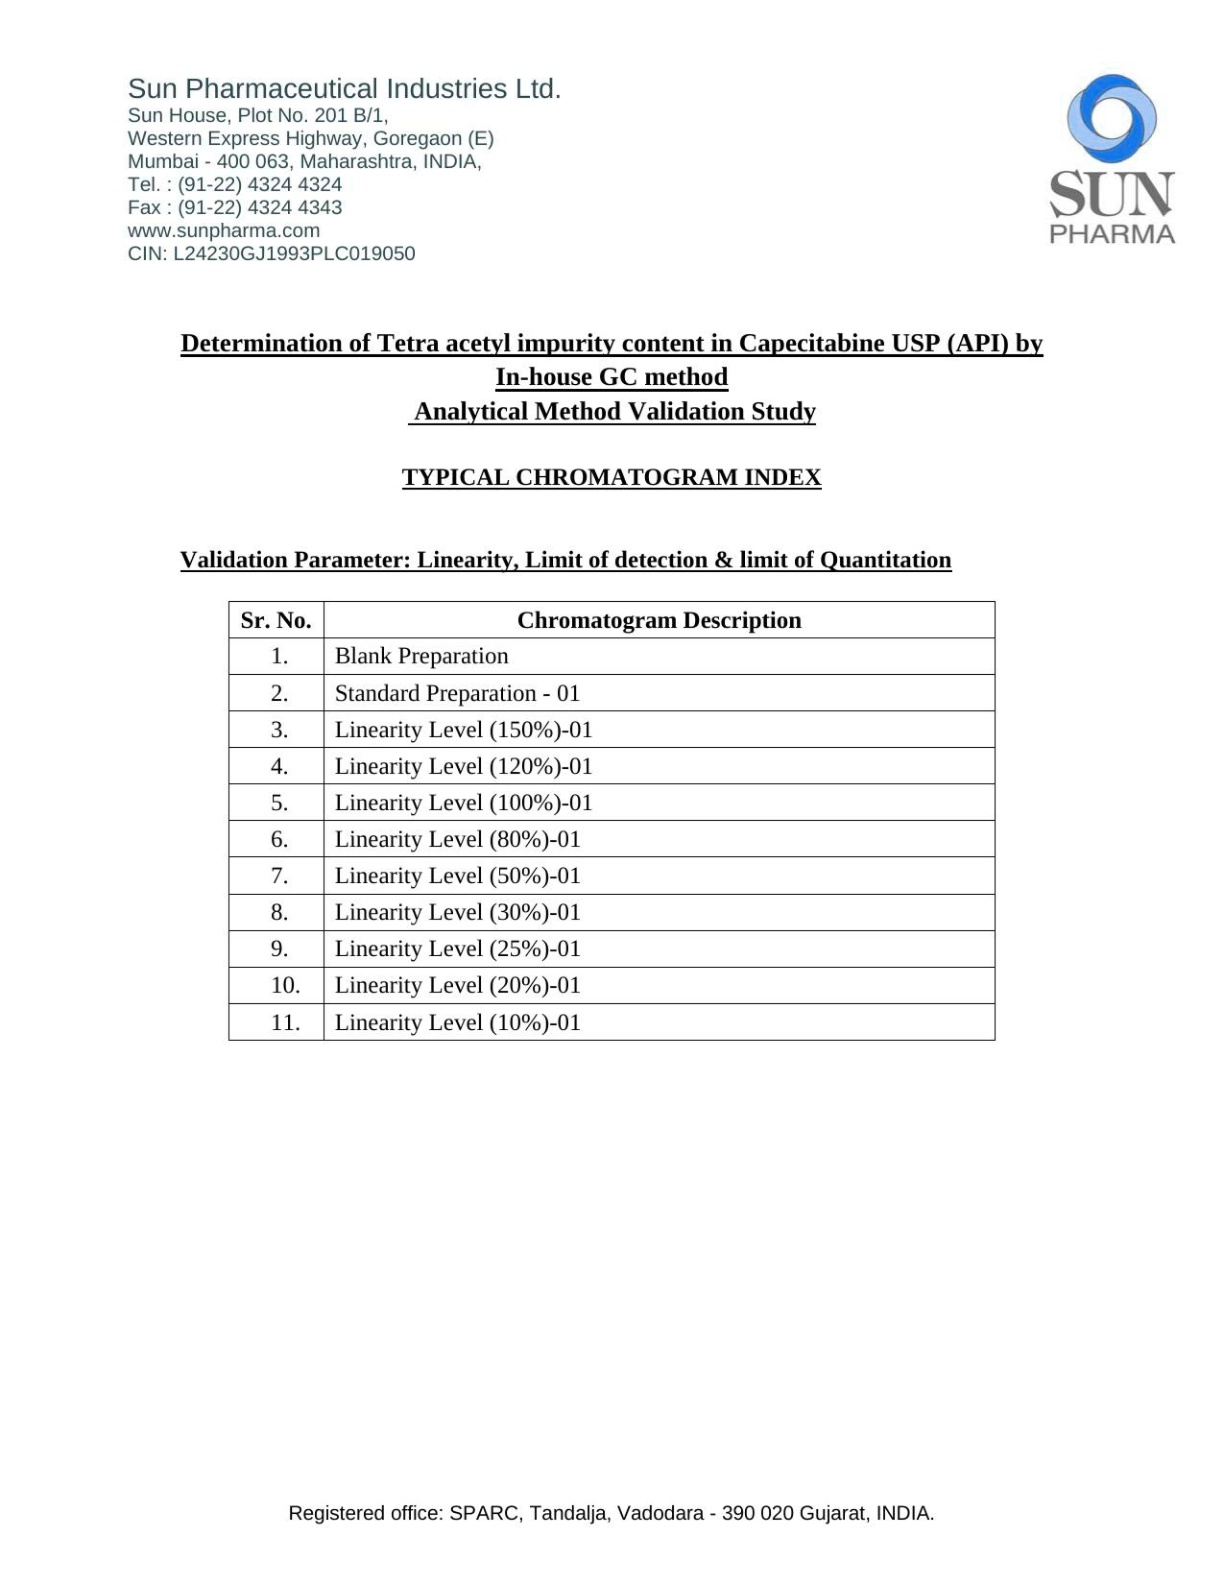full_lined: (226, 587, 1016, 1053)
